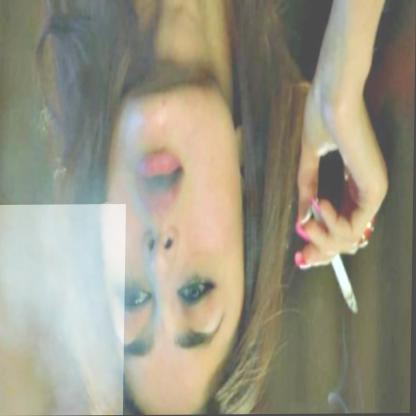smoke: (0, 204, 127, 416)
